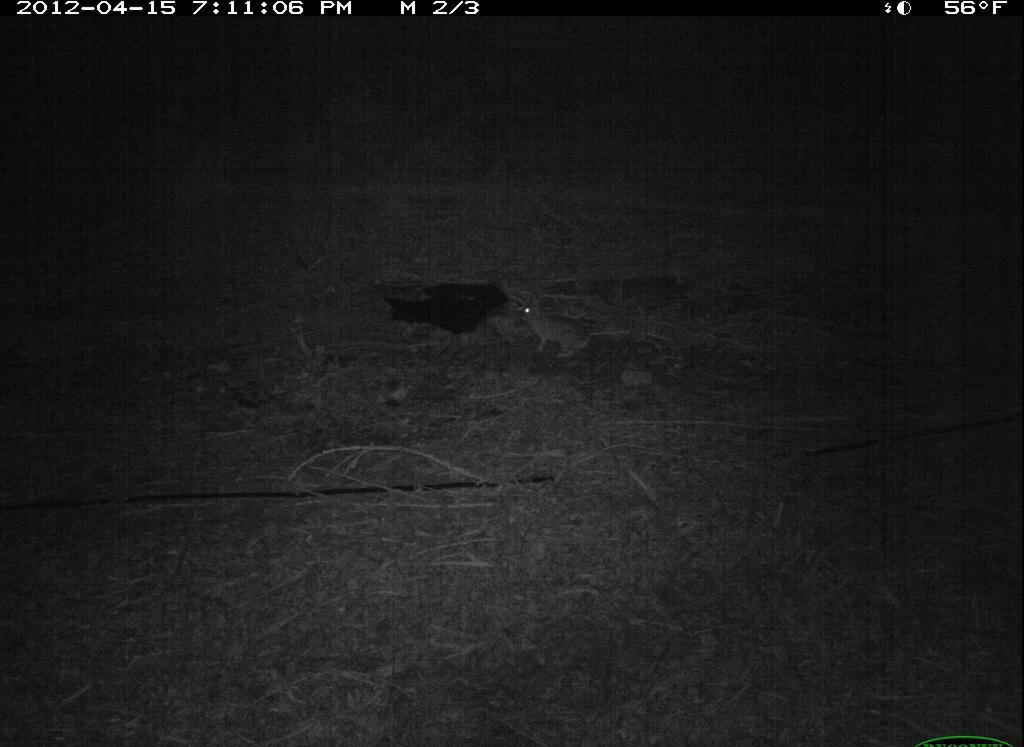rabbit: (513, 297, 602, 361)
